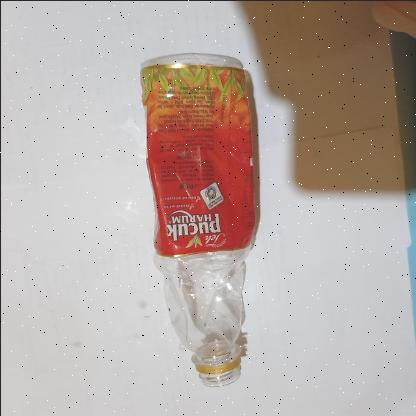Plastic Bottle: (141, 52, 255, 386)
